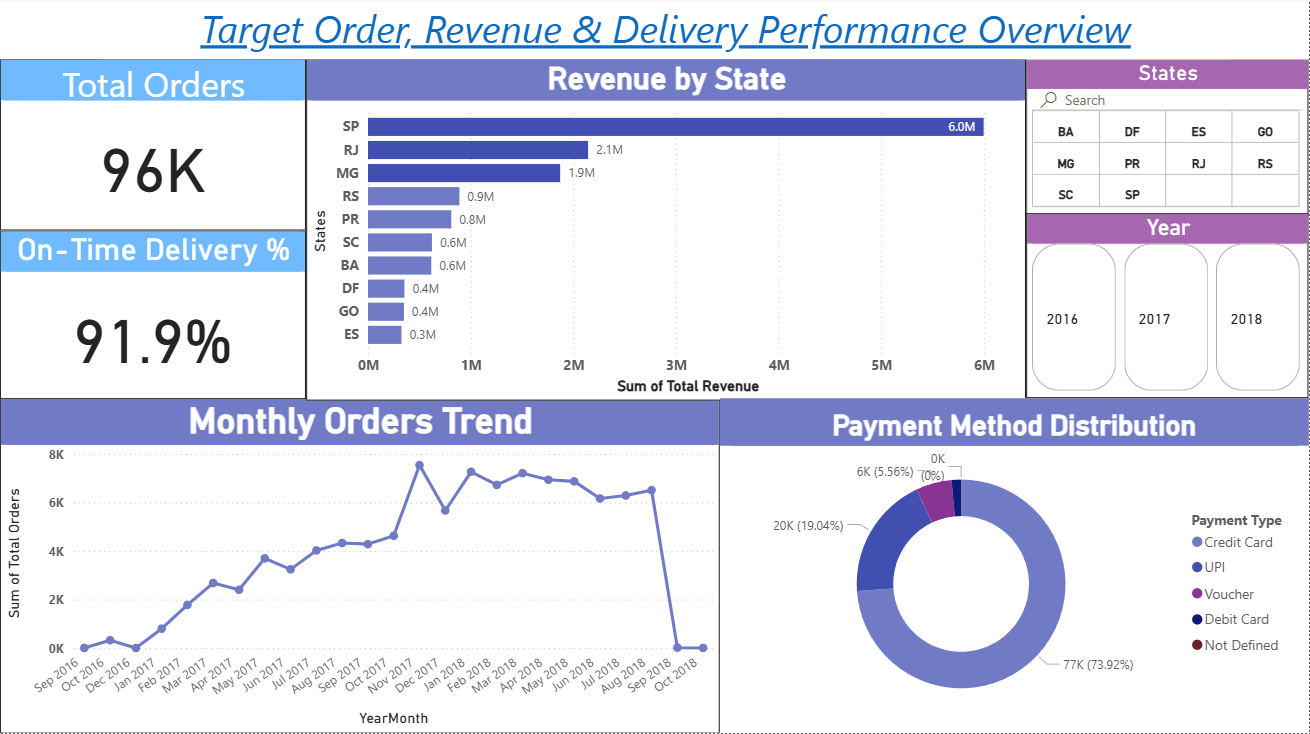

The page's visual inventory and layout, read from the dashboard file:
{"tool":"powerbi","page":{"name":"Page 1","canvas":[1280,720],"ordinal":0},"visuals":[{"type":"card","title":"Total Orders","fields":{"Values":["Sum(Delivery Performance.Total Orders)"]},"box":[0,61.1,299.6,167.5],"z":0},{"type":"card","title":"On-Time Delivery %","fields":{"Values":["Delivery Performance.On-Time Delivery %"]},"box":[0,228.7,299.6,166.3],"z":1000},{"type":"lineChart","title":"Monthly Orders Trend","fields":{"Category":["Table3.YearMonth"],"Y":["Sum(Table3.Total Orders)"]},"box":[0,392.5,704.4,327.7],"z":2000},{"type":"clusteredBarChart","title":"Revenue by State","fields":{"Category":["Top 10 States Revenue.States"],"Y":["Sum(Top 10 States Revenue.Total Revenue)"]},"box":[299.6,61.1,704.4,333.8],"z":3000},{"type":"advancedSlicerVisual","fields":{"Values":["Top 10 States Revenue.States"]},"box":[1003.9,61.1,276.4,152.9],"z":4000},{"type":"donutChart","title":"Payment Method Distribution","fields":{"Category":["Payment Method Distribution.Payment Type"],"Y":["Sum(Payment Method Distribution.Total Orders)"]},"box":[704.4,392.5,576,327.7],"z":5000},{"type":"advancedSlicerVisual","fields":{"Values":["Table3.Year"]},"box":[1003.9,211.6,276.4,181],"z":5001},{"type":"textbox","box":[100.3,0,1101.8,61.1],"z":5002}]}

Visuals, with their boxes in screenshot pixels (x1, y1, x2, y2), scaled from the page's 1280x720 canvas onto the 1310x734 screenshot:
"Total Orders" card: l=0, t=62, r=307, b=233
"On-Time Delivery %" card: l=0, t=233, r=307, b=403
"Monthly Orders Trend" lineChart: l=0, t=400, r=721, b=733
"Revenue by State" clusteredBarChart: l=307, t=62, r=1028, b=403
advancedSlicerVisual - Top 10 States Revenue.States: l=1027, t=62, r=1309, b=218
"Payment Method Distribution" donutChart: l=721, t=400, r=1309, b=733
advancedSlicerVisual - Table3.Year: l=1027, t=216, r=1309, b=400
textbox: l=103, t=0, r=1230, b=62
